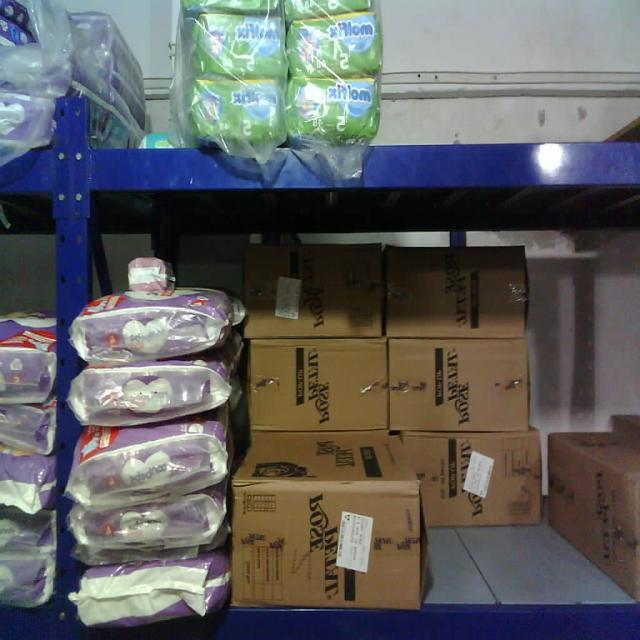cardboxes: (229, 478, 422, 611), (234, 336, 390, 431), (240, 240, 384, 338), (388, 334, 528, 434), (384, 242, 526, 338), (420, 428, 540, 526)
